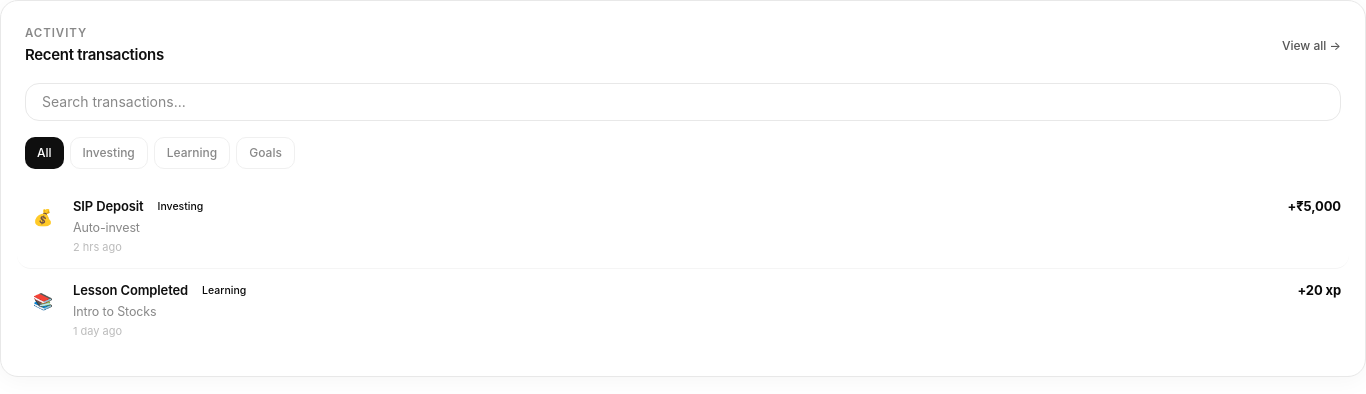
Test case: QuizActivity (RecentActivity) › filters activities by category
The image size is (1366, 394).
// Click Investing filter
Step 1. Click the button "Investing" → (109, 153), box [70,137,148,169]
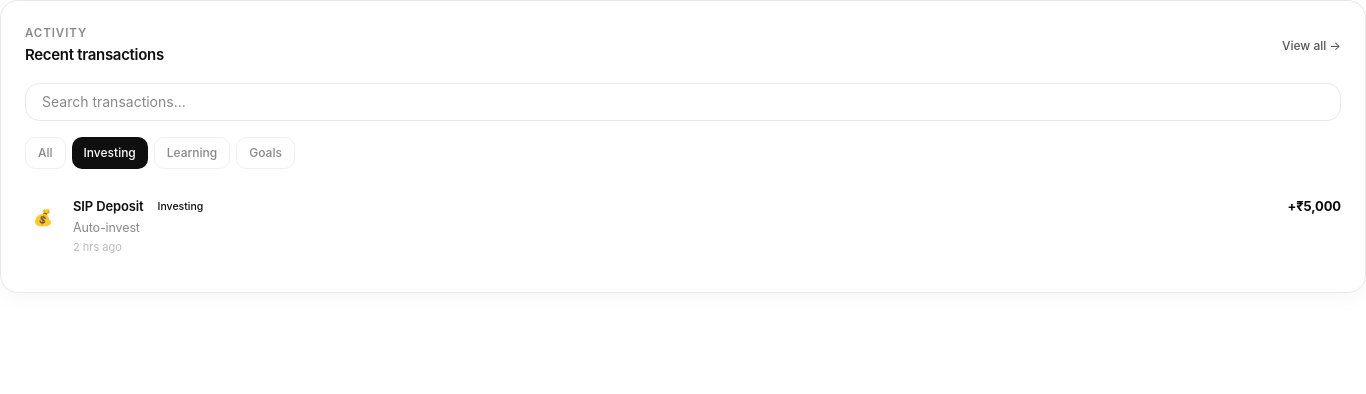
Check: the text "SIP Deposit" is shown, box [73,197,144,216]
Check: the text "Lesson Completed" is gone
